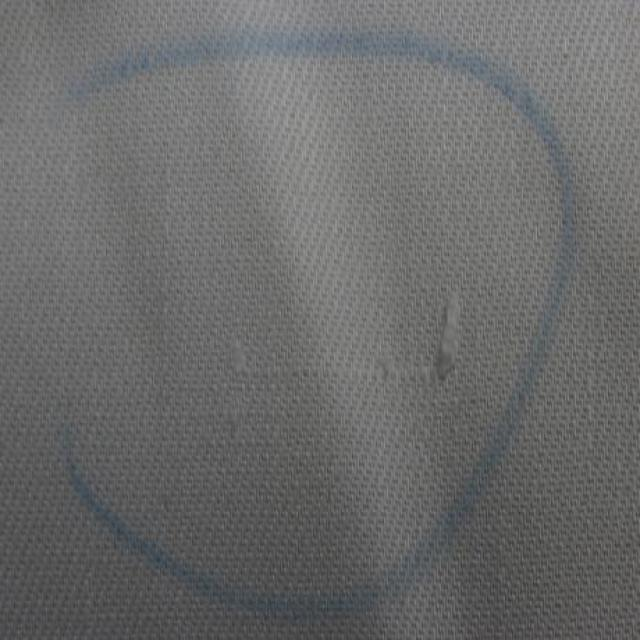Thread_other: (193, 234, 497, 414)
